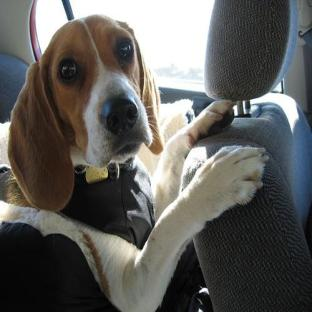Animal: (0, 15, 268, 311)
